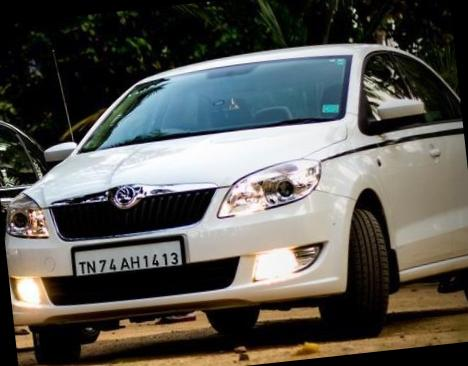plate: (64, 220, 197, 298)
